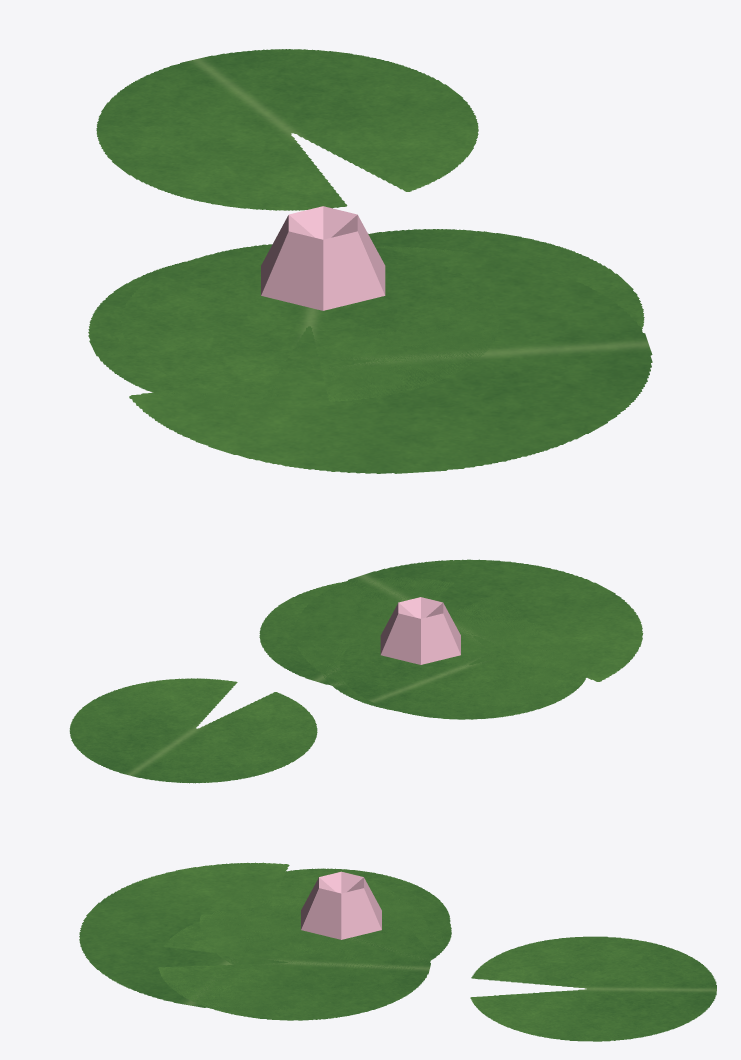
The model's file is lily_pad_vn.glb.
The picture shows the model from 3 angles, top to bottom: view 1: azimuth 30°, elevation 25°; view 2: azimuth 150°, elevation 25°; view 3: azimuth 270°, elevation 25°; orthographic projection. The views are drawn at different scales.
Parts seen in each view (by area): view 1: lily_pad_vn; view 2: lily_pad_vn; view 3: lily_pad_vn.
Boxes of the visible parts, bbox=[...] form: lily_pad_vn: bbox=[88, 49, 652, 473]; lily_pad_vn: bbox=[69, 559, 643, 783]; lily_pad_vn: bbox=[79, 862, 716, 1041].
Size of the model in its own units: 0.9605 by 0.12 by 1.37.
Materials: 2 (1 with a texture image).
